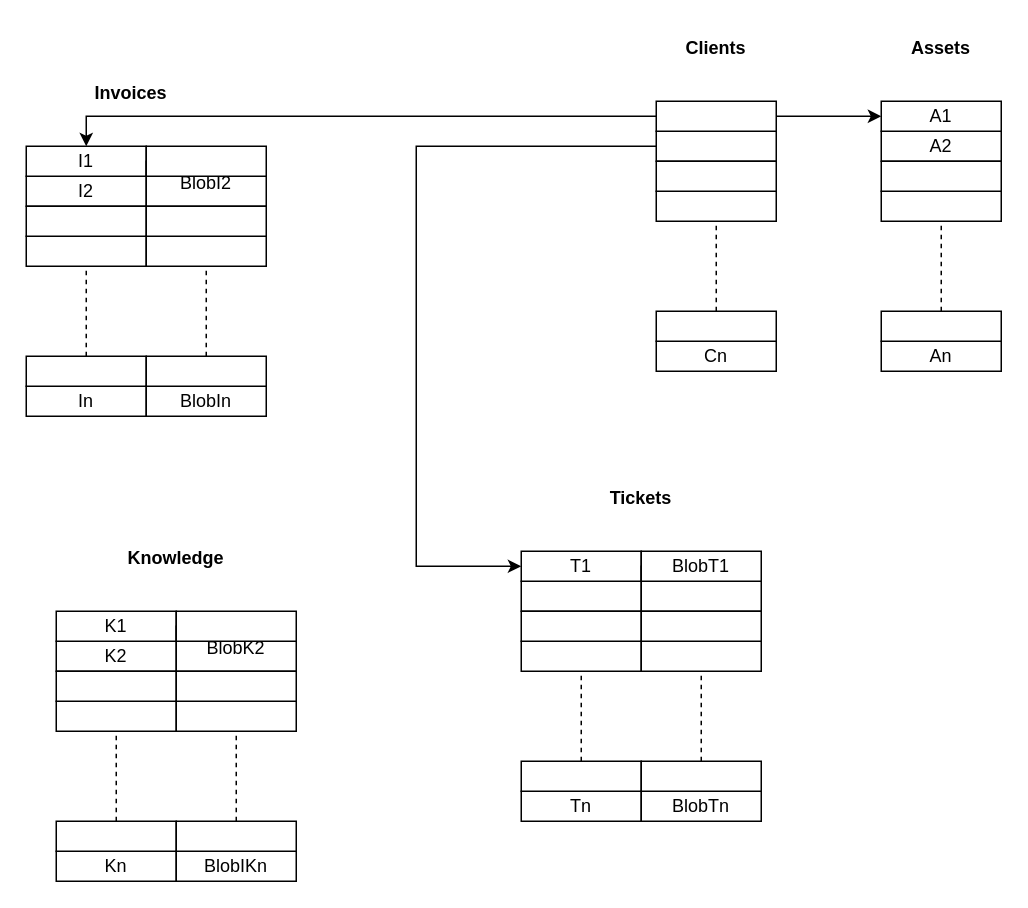
The diagram is 1028 pixels wide and 908 high, and some of its shapes have lost their labels. Here are the shapes that lost their labels. From the top down, the centre of each, then its label:
At pixel 715 115: "C1".
At pixel 205 160: "BlobI1".
At pixel 715 145: "C2".
At pixel 235 625: "BlobK1".
